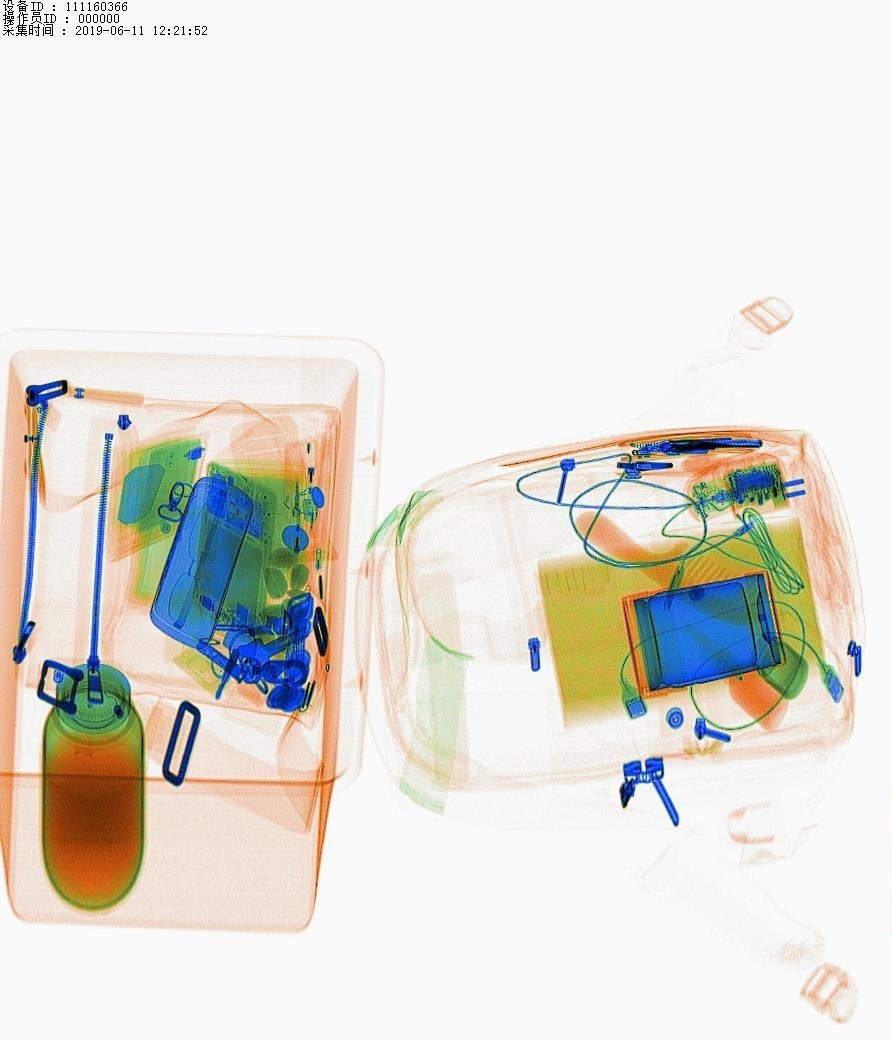NonmetallicFire: (285, 429, 329, 612)
